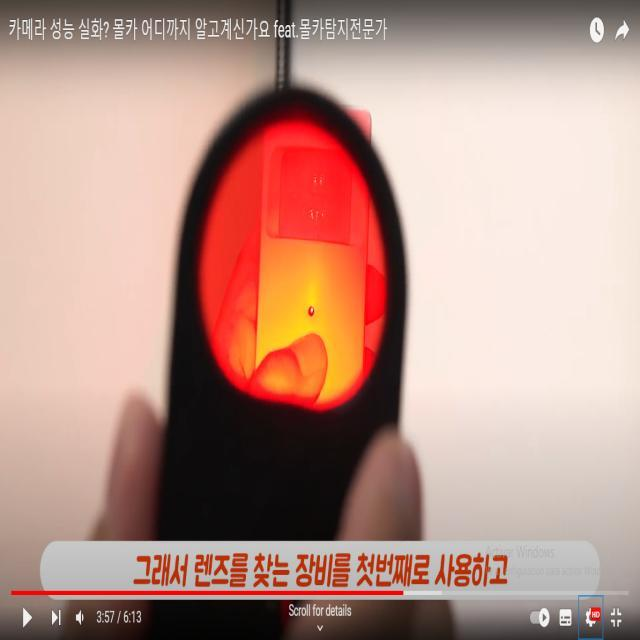hidden camera: (307, 302, 317, 323)
